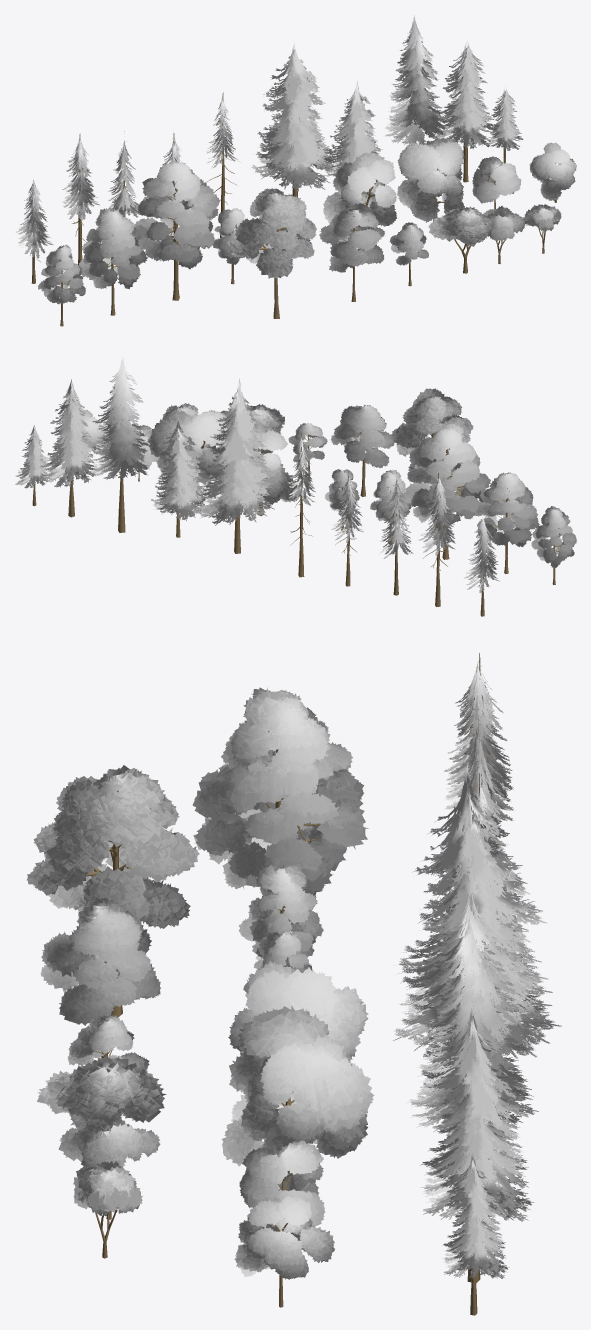
The model's file is Trees_Group_1A1_LOD0.fbx.
3 renders of one model, top to bottom at view 1: azimuth 30°, elevation 25°; view 2: azimuth 150°, elevation 25°; view 3: azimuth 270°, elevation 25°, orthographic. The views are drawn at different scales.
Visible parts, largest first — view 1: Plane.041, leaf.057, leaf.056, Leaves_4.001, Plane.036, leaf.776, Leaves_3.001, Plane.037, leaf.054, Plane.042, leaf.058, Leaves_2.001 (+11 smaller); view 2: Plane.041, leaf.057, Plane.036, leaf.776, Plane.037, Plane.042, Leaves_4.001, leaf.056, leaf.054, leaf.058, Leaves_3.001, Plane.043 (+12 smaller); view 3: leaf.057, Plane.041, leaf.056, Leaves_4.001, Plane.037, Plane.036, leaf.054, Leaves_3.001, leaf.055, Leaves_2.001, Plane.045, leaf.792 (+9 smaller).
Boxes of the visible parts, bbox=[...] form: Plane.041: bbox=[251, 41, 337, 191]; leaf.057: bbox=[133, 160, 220, 269]; leaf.056: bbox=[227, 188, 316, 278]; Leaves_4.001: bbox=[396, 137, 464, 222]; Plane.036: bbox=[384, 15, 451, 145]; leaf.776: bbox=[79, 208, 147, 289]; Leaves_3.001: bbox=[323, 152, 396, 232]; Plane.037: bbox=[436, 40, 496, 149]; leaf.054: bbox=[319, 203, 384, 272]; Plane.042: bbox=[325, 80, 382, 176]; leaf.058: bbox=[38, 244, 85, 304]; Leaves_2.001: bbox=[529, 142, 576, 200]; Plane.041: bbox=[193, 378, 278, 525]; leaf.057: bbox=[403, 421, 490, 525]; Plane.036: bbox=[89, 356, 149, 479]; leaf.776: bbox=[475, 472, 539, 547]; Plane.037: bbox=[38, 379, 96, 487]; Plane.042: bbox=[151, 418, 206, 520]; Leaves_4.001: bbox=[147, 410, 230, 483]; leaf.056: bbox=[391, 388, 473, 470]; leaf.054: bbox=[331, 405, 394, 467]; leaf.058: bbox=[531, 506, 576, 568]; Leaves_3.001: bbox=[249, 422, 297, 504]; Plane.043: bbox=[418, 478, 455, 555]; leaf.057: bbox=[192, 687, 368, 897]; Plane.041: bbox=[393, 763, 561, 1058]; leaf.056: bbox=[26, 765, 199, 928]; Leaves_4.001: bbox=[221, 1005, 374, 1166]; Plane.037: bbox=[420, 1008, 534, 1221]; Plane.036: bbox=[407, 888, 538, 1149]; leaf.054: bbox=[40, 897, 160, 1025]; Leaves_3.001: bbox=[228, 961, 368, 1065]; leaf.055: bbox=[37, 1056, 166, 1128]; Leaves_2.001: bbox=[234, 1195, 334, 1279]; Plane.045: bbox=[442, 1153, 509, 1278]; leaf.792: bbox=[238, 864, 323, 966].
Size of the model in its own units: 10657 by 3609 by 4852.
